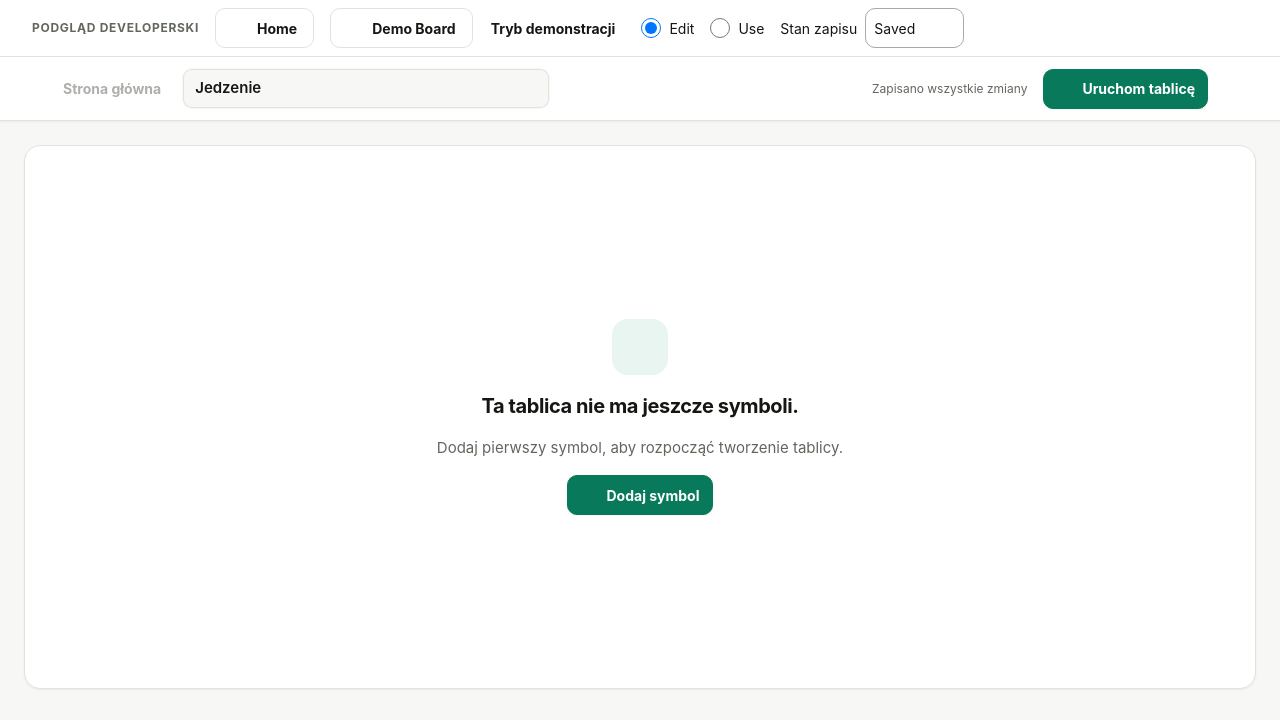
Test: App › przełącza demonstrację Board między trybem edit i use
The image size is (1280, 720).
Expected: the radio button labelled "Edit" is checked, [641,18,661,38]
Expected: the field named "Nazwa tablicy" holds "Jedzenie", [182,68,550,109]
Click the radio button labelled "Use".
click(720, 28)  # box [710,18,730,38]
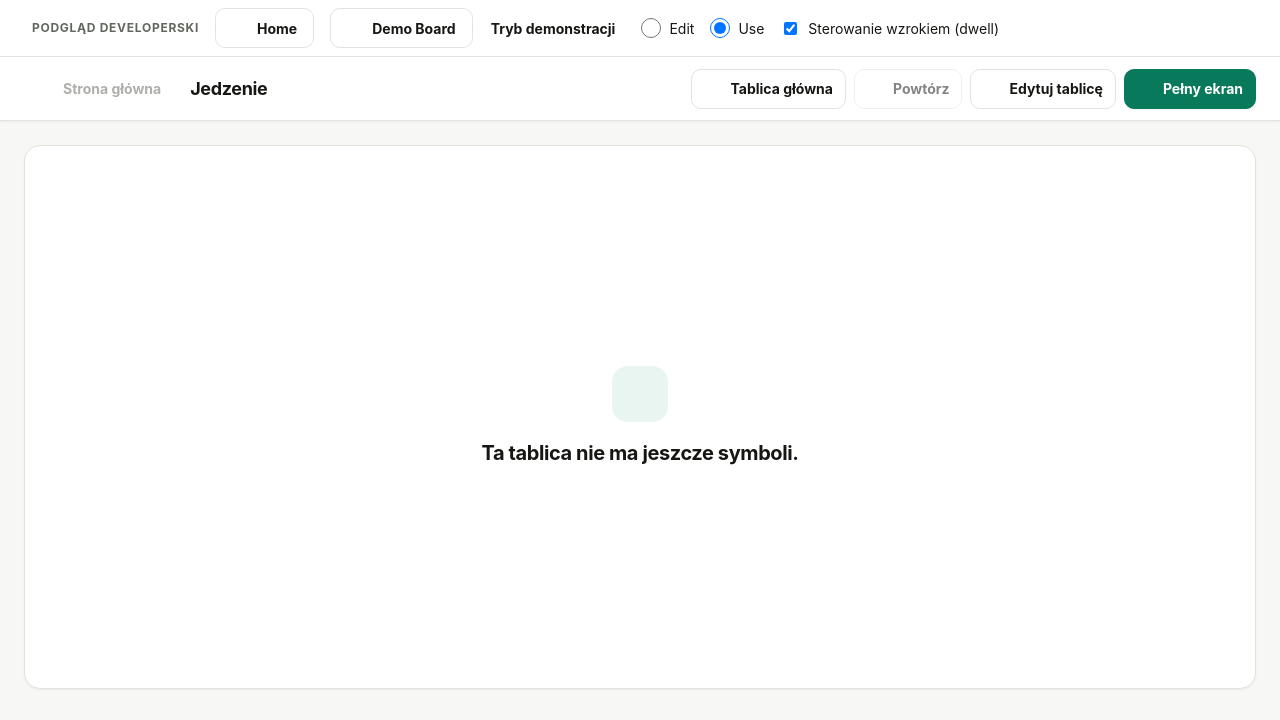
Expected: the heading "Jedzenie" is shown, [190,78,267,99]
Expected: the checkbox labelled "Sterowanie wzrokiem (dwell)" is checked, [784,22,797,34]
Expected: the field is gone
